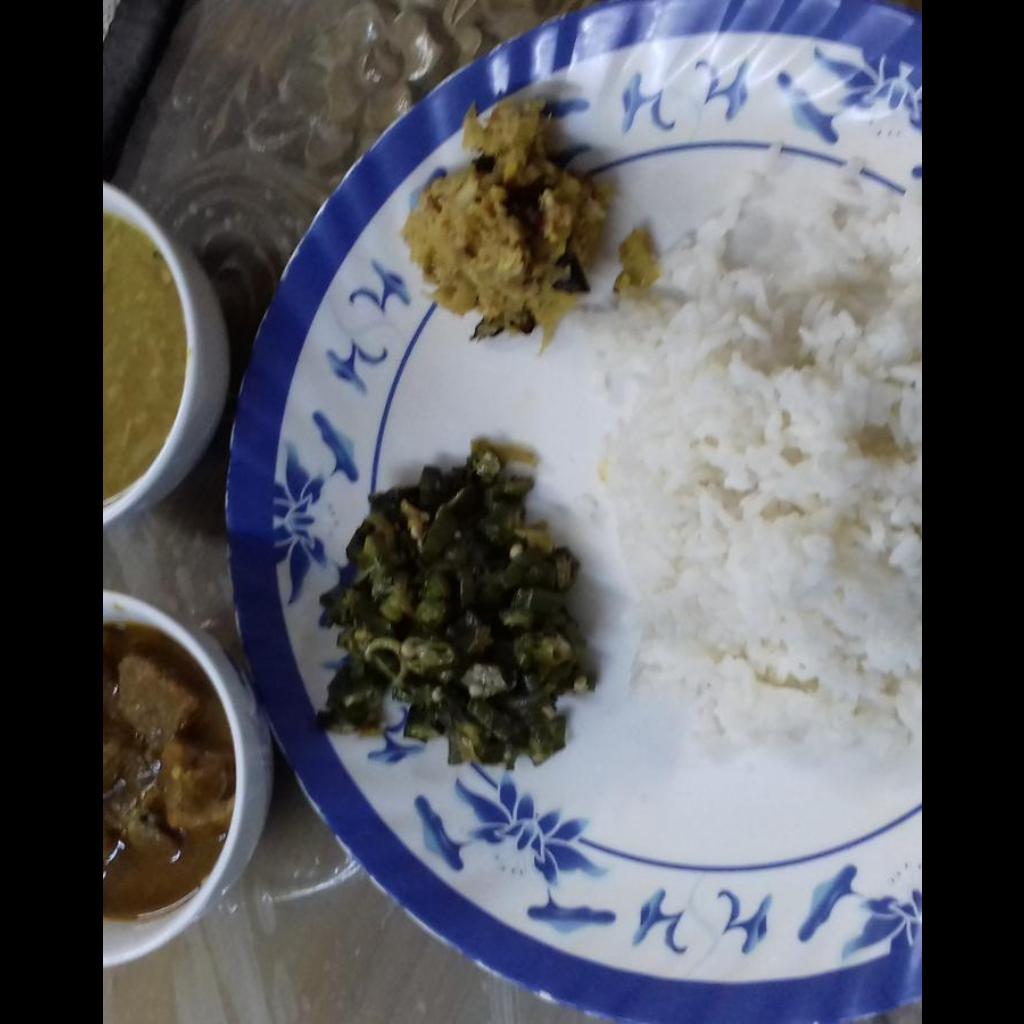beef: (106, 653, 234, 864)
cabbage: (401, 98, 612, 342)
daal: (102, 219, 187, 499)
rice: (604, 142, 918, 753)
vaji: (320, 441, 598, 776)
